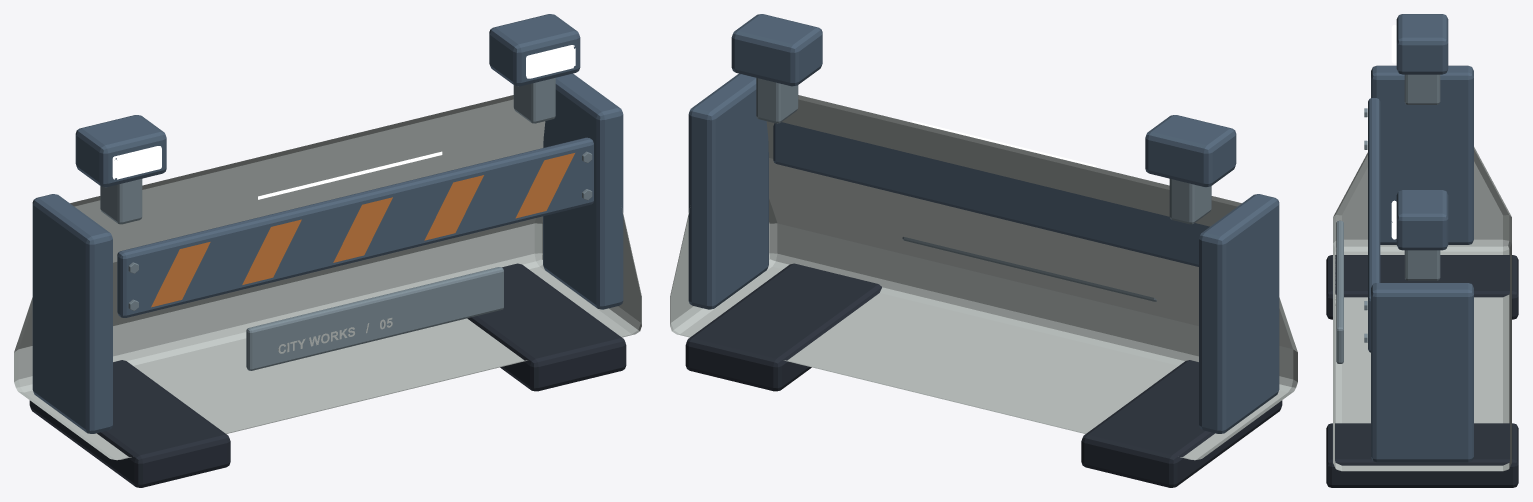
File: barricade.glb
3 views of the same model, side by side, from view 1: azimuth 30°, elevation 25°; view 2: azimuth 150°, elevation 25°; view 3: azimuth 270°, elevation 25° (orthographic). The views are drawn at different scales.
Parts seen in each view (by area): view 1: Body, Signal; view 2: Body; view 3: Body, Signal.
Boxes of the visible parts, x1=… form: Body: x1=14, y1=14, x2=641, y2=487; Signal: x1=112, y1=45, x2=575, y2=199; Body: x1=670, y1=14, x2=1297, y2=487; Body: x1=1326, y1=14, x2=1518, y2=487; Signal: x1=1391, y1=25, x2=1396, y2=239.
Bounding box in the file's own units: 2.42 × 1.34 × 0.86.
